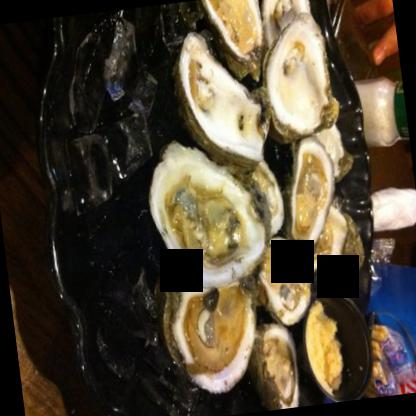oyster: (141, 134, 268, 293), (154, 262, 265, 400), (175, 32, 266, 166), (254, 10, 338, 149), (275, 138, 339, 242), (252, 226, 317, 320)
